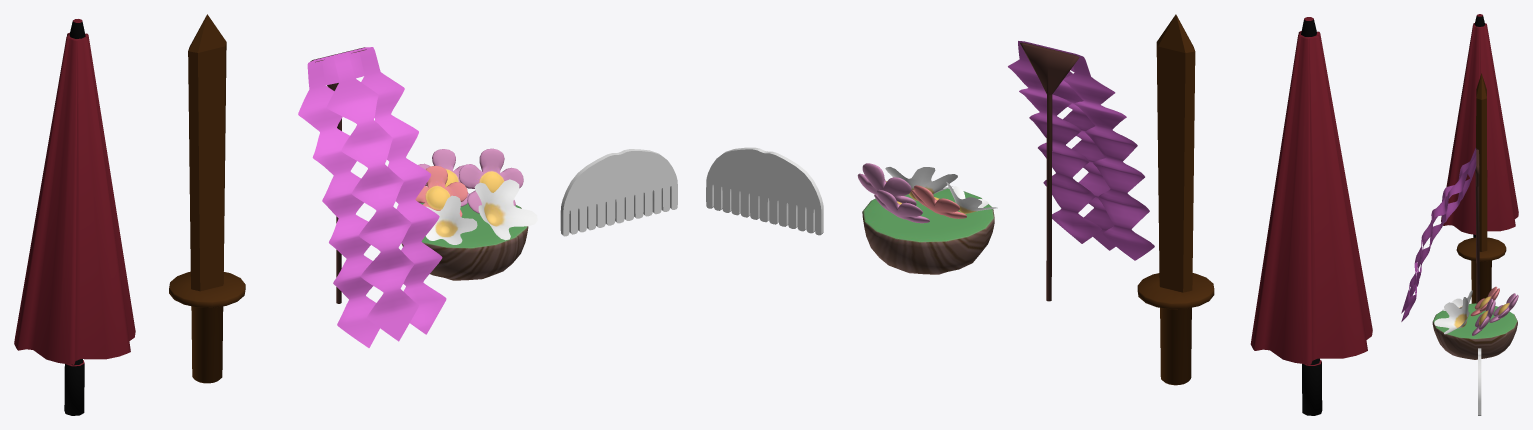
File: Accessories.fbx
3 renders of one model, left to right at view 1: azimuth 30°, elevation 25°; view 2: azimuth 150°, elevation 25°; view 3: azimuth 270°, elevation 25°, orthographic. The views are drawn at different scales.
Visible parts, largest first — view 1: AC_Y_G, Umbel_m, AC_Sword_Yong, Ac_flower_L_G, K_Kob_G; view 2: Umbel_m, AC_Y_G, AC_Sword_Yong, Ac_flower_L_G, K_Kob_G; view 3: Umbel_m, Ac_flower_L_G, AC_Sword_Yong, AC_Y_G, K_Kob_G.
Boxes of the visible parts, <box> form: AC_Y_G: <box>298,47,446,347</box>; Umbel_m: <box>14,19,135,415</box>; AC_Sword_Yong: <box>169,14,245,383</box>; Ac_flower_L_G: <box>401,148,537,280</box>; K_Kob_G: <box>560,149,677,236</box>; Umbel_m: <box>1250,17,1372,415</box>; AC_Y_G: <box>1008,41,1154,301</box>; AC_Sword_Yong: <box>1137,14,1214,385</box>; Ac_flower_L_G: <box>857,163,997,274</box>; K_Kob_G: <box>706,147,823,235</box>; Umbel_m: <box>1441,14,1518,237</box>; Ac_flower_L_G: <box>1432,286,1518,359</box>; AC_Sword_Yong: <box>1456,73,1506,303</box>; AC_Y_G: <box>1401,148,1479,321</box>; K_Kob_G: <box>1478,348,1481,415</box>.
Bounding box in the file's own units: 82.31 × 46.7 × 19.89.
Materials: 6 (1 with a texture image).
